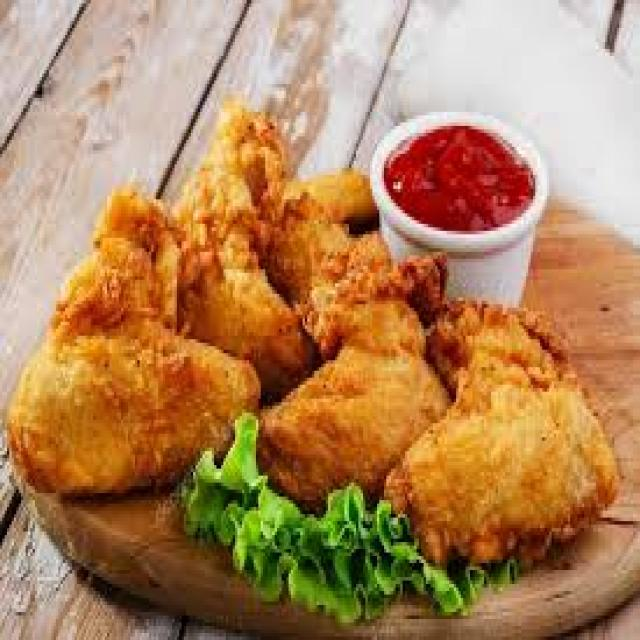Frango: (14, 98, 628, 566)
